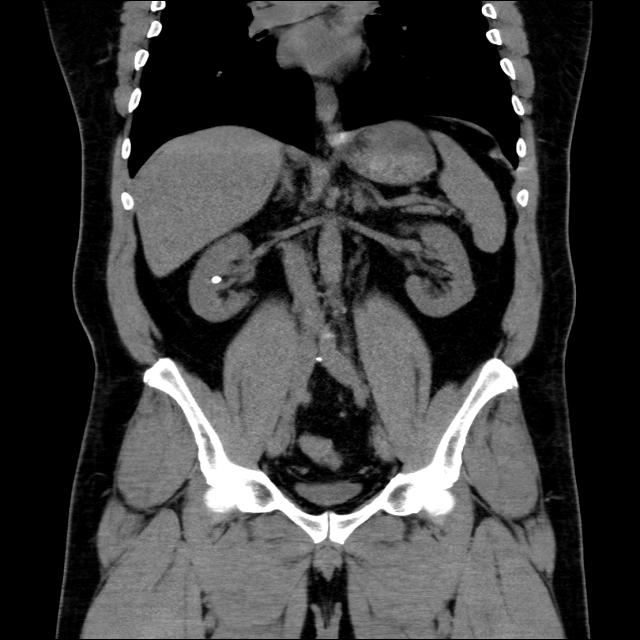kidneystone: (210, 275, 222, 283)
